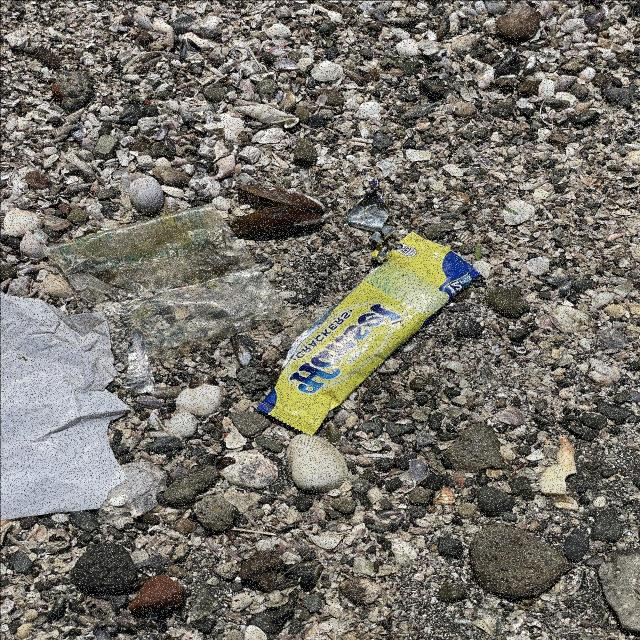plastic_waste: (255, 231, 487, 442)
